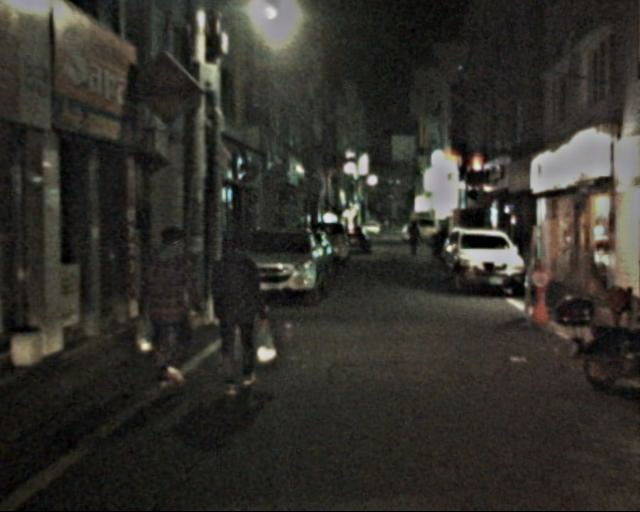person: (138, 226, 203, 387), (207, 237, 269, 390), (407, 221, 422, 254)
